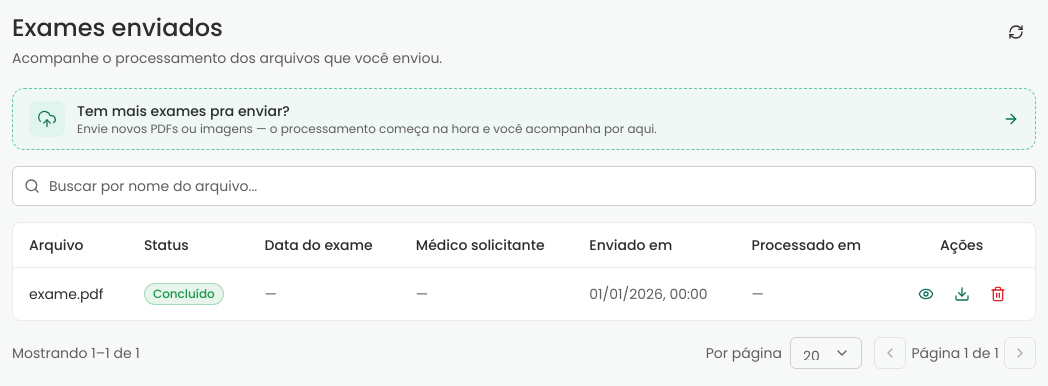
Scenario: SentExamsView — colunas de data do exame e médico solicitante › done + exame válido + campos vazios: mostra tooltip de "não foi possível extrair"
This screenshot has width=1048, height=386.
Expected: the 1st cell "—" is shown, [249,268,400,320]
Hover over the 1st text with class "cursor-default" at {"x": 271, "y": 294}, box [265,284,277,304]
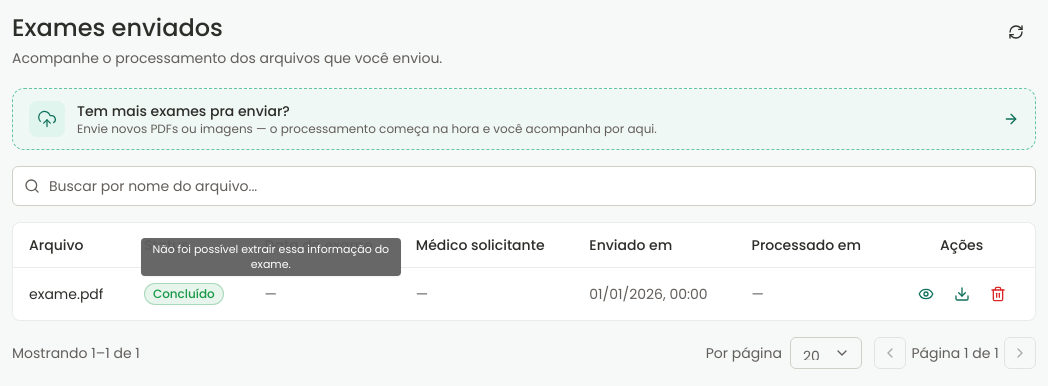
Now the tooltip reads "Não foi possível extrair essa informação do exame.", box [152,241,389,272]
